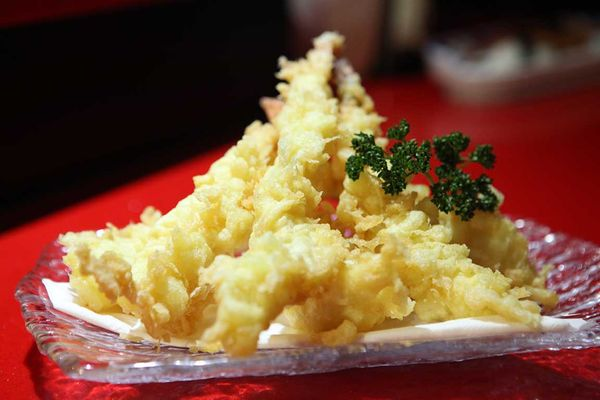curry: (346, 119, 501, 217), (430, 164, 501, 220)
